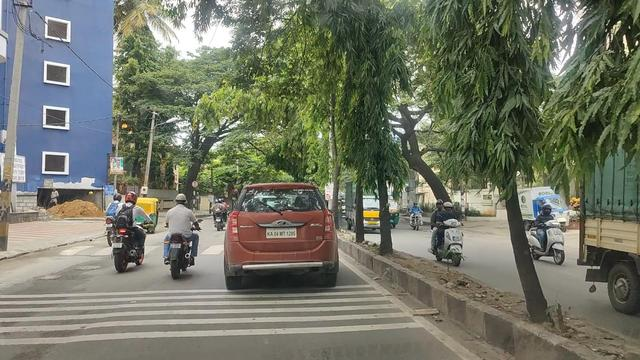LMV: (228, 180, 339, 283), (165, 192, 198, 273), (115, 197, 147, 272)
SpeedBump: (8, 290, 404, 342)
